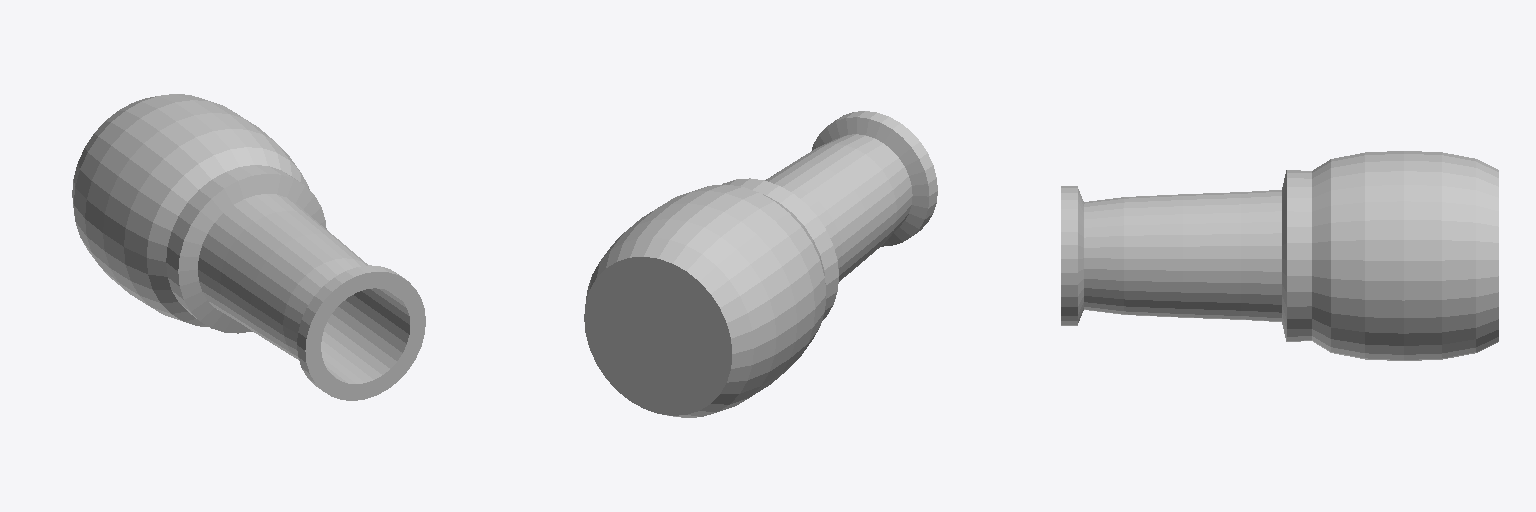
File: MainCanon.obj
3 renders of one model, left to right at view 1: azimuth 30°, elevation 25°; view 2: azimuth 150°, elevation 25°; view 3: azimuth 270°, elevation 25°, orthographic.
Parts seen in each view (by area): view 1: Canon; view 2: Canon; view 3: Canon.
Part boxes in pixels (x1,y1,x2,y2): Canon: (72, 94, 425, 400); Canon: (584, 111, 937, 417); Canon: (1061, 151, 1498, 360).
Bounding box in the file's own units: 2.33 × 2.33 × 4.84.